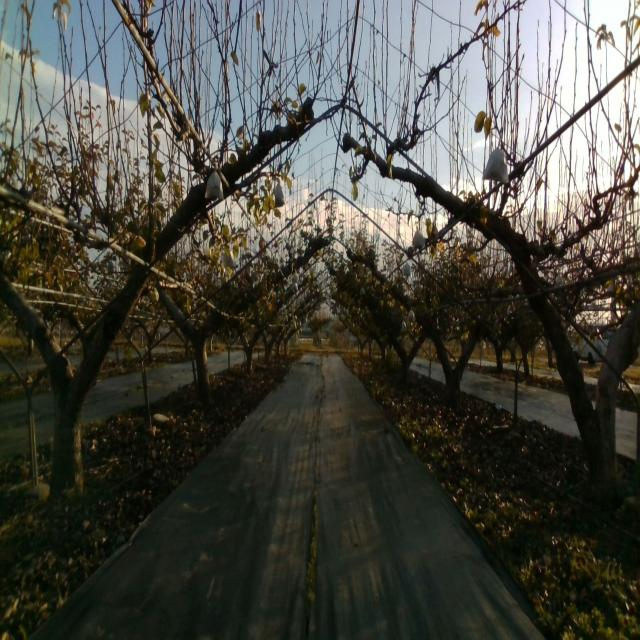pearbags: (482, 137, 510, 185), (204, 164, 225, 201), (272, 181, 285, 209), (413, 225, 426, 251), (223, 249, 236, 268)
